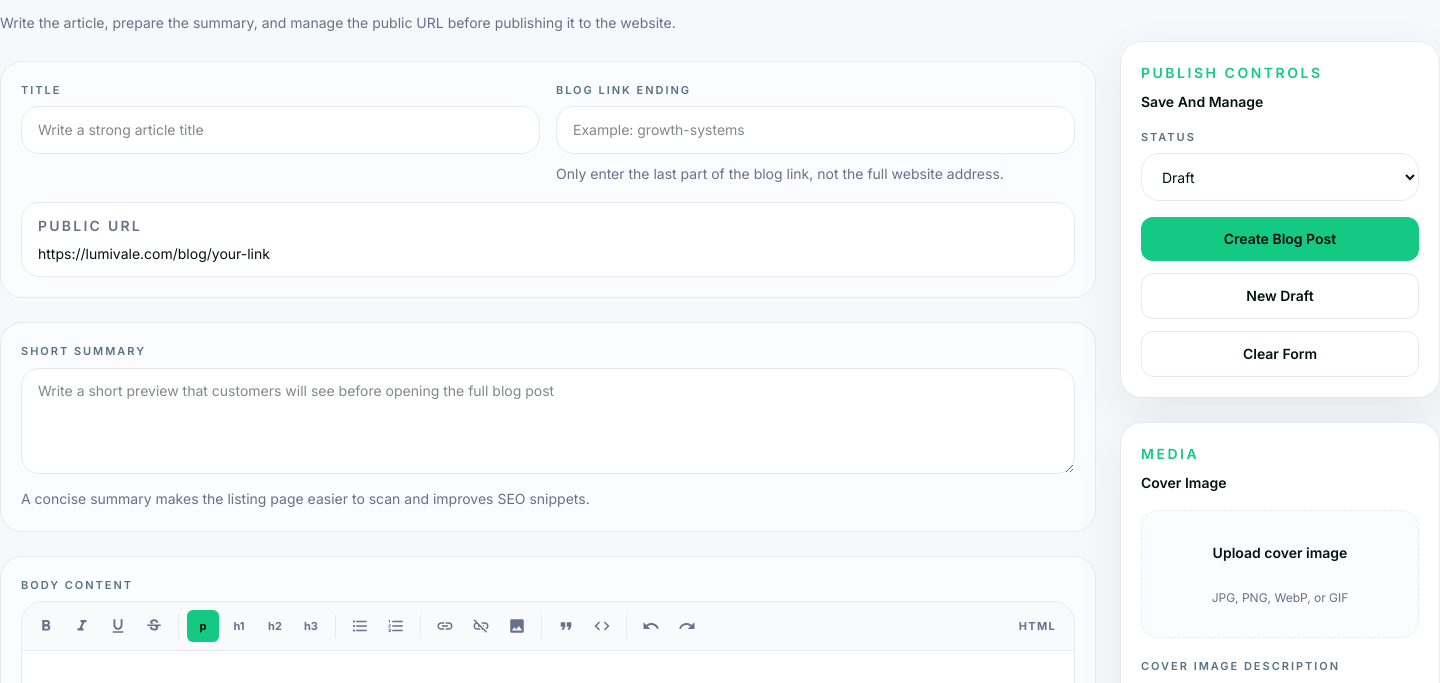
Test: admin blog editor › html mode updates the submitted body content and preview
Click the button "HTML". click: point(1037, 626)
box: [1009, 610, 1066, 642]
(page scrolled)
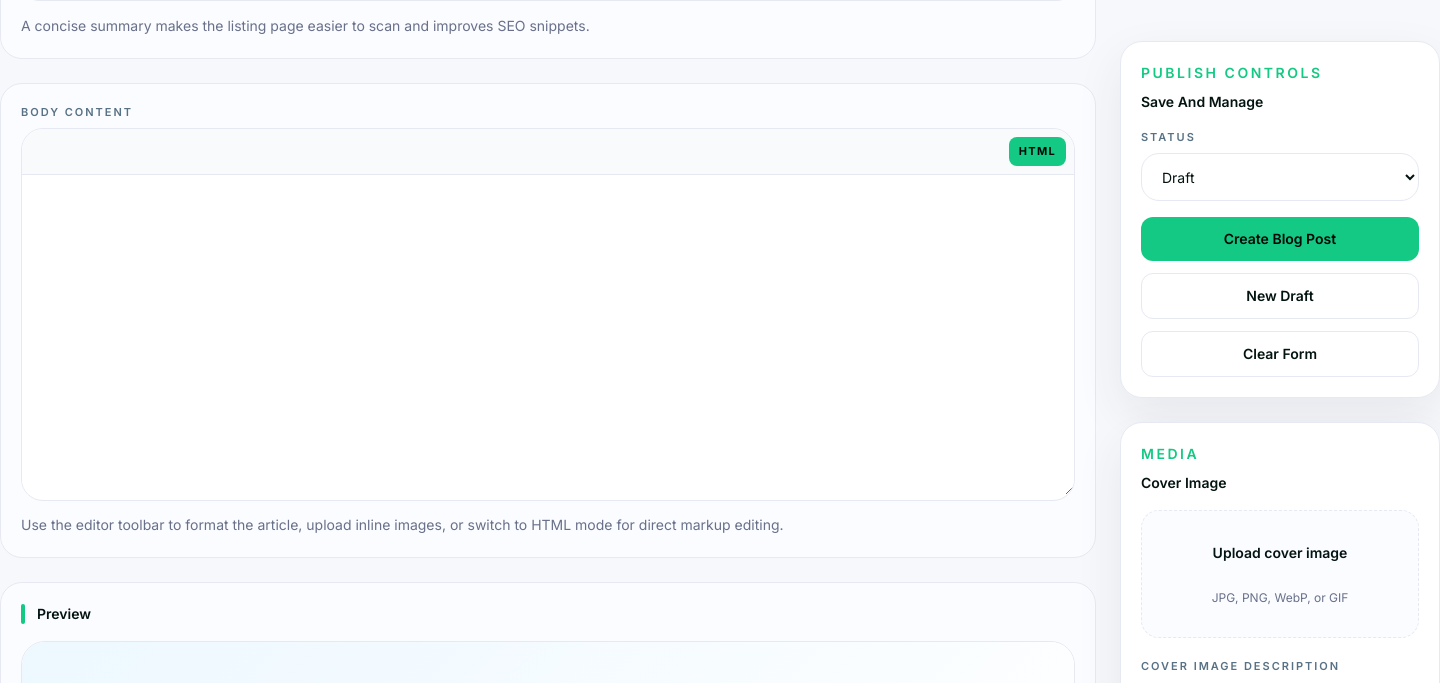
Type "<h1>Launch notes</h1><p>Body paragraph.</p>" into the text box named "HTML editor". click: point(548, 335)
box: [22, 175, 1074, 495]
(page scrolled)
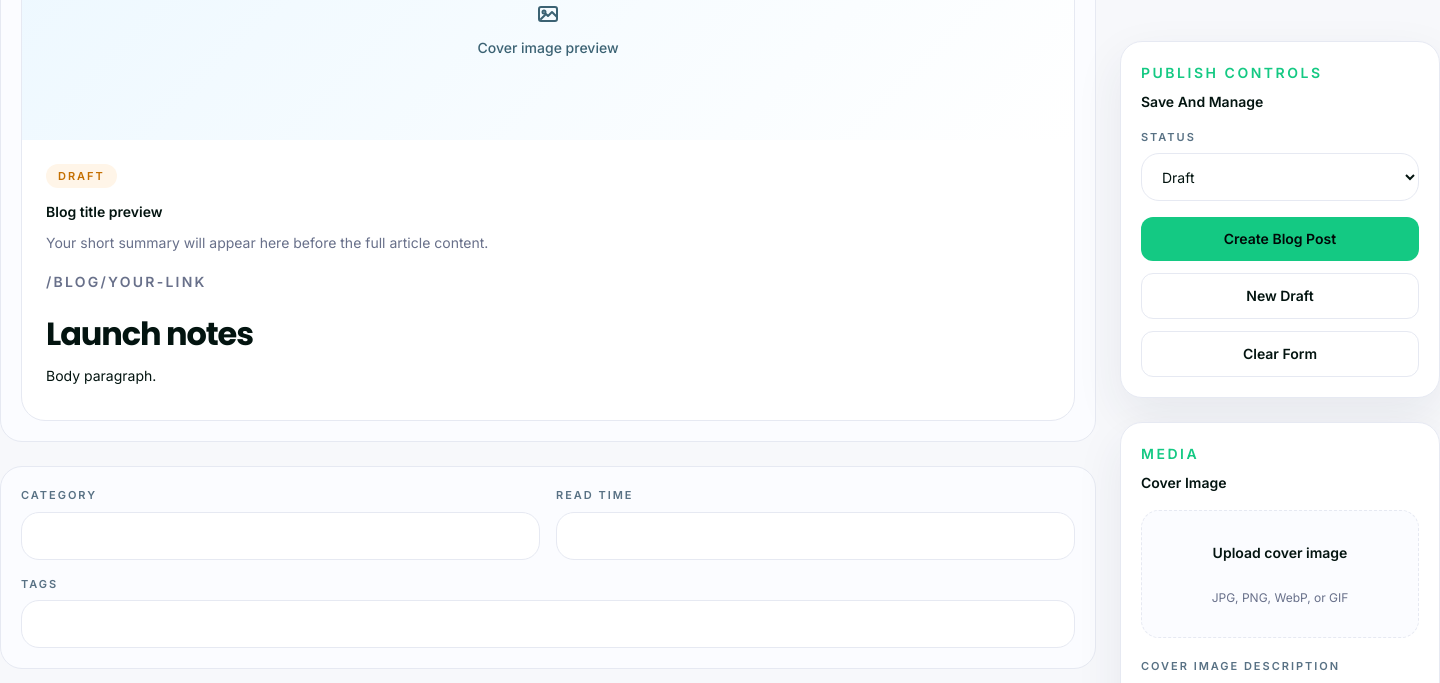
Result: the heading "Launch notes" is shown at [46, 312, 253, 356]
